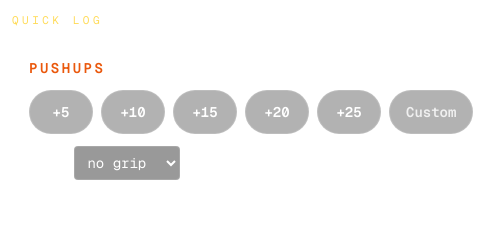
QuickLog › seeds the custom input with lastReps when provided
Click the button "Custom" at (431, 112), box [389,90,473,134]
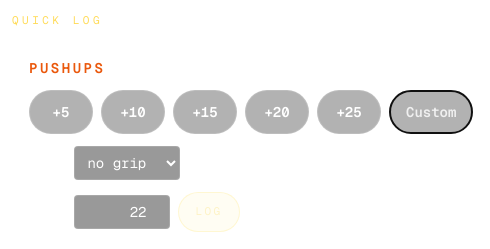
Result: the number field labelled "reps" holds "22" at [74,194,170,228]
